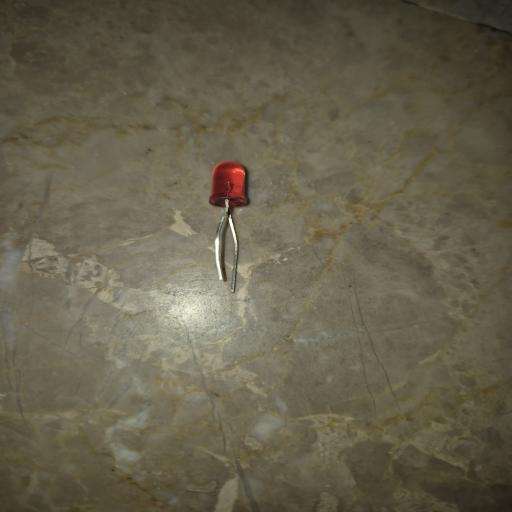led-diode: (209, 161, 250, 292)
